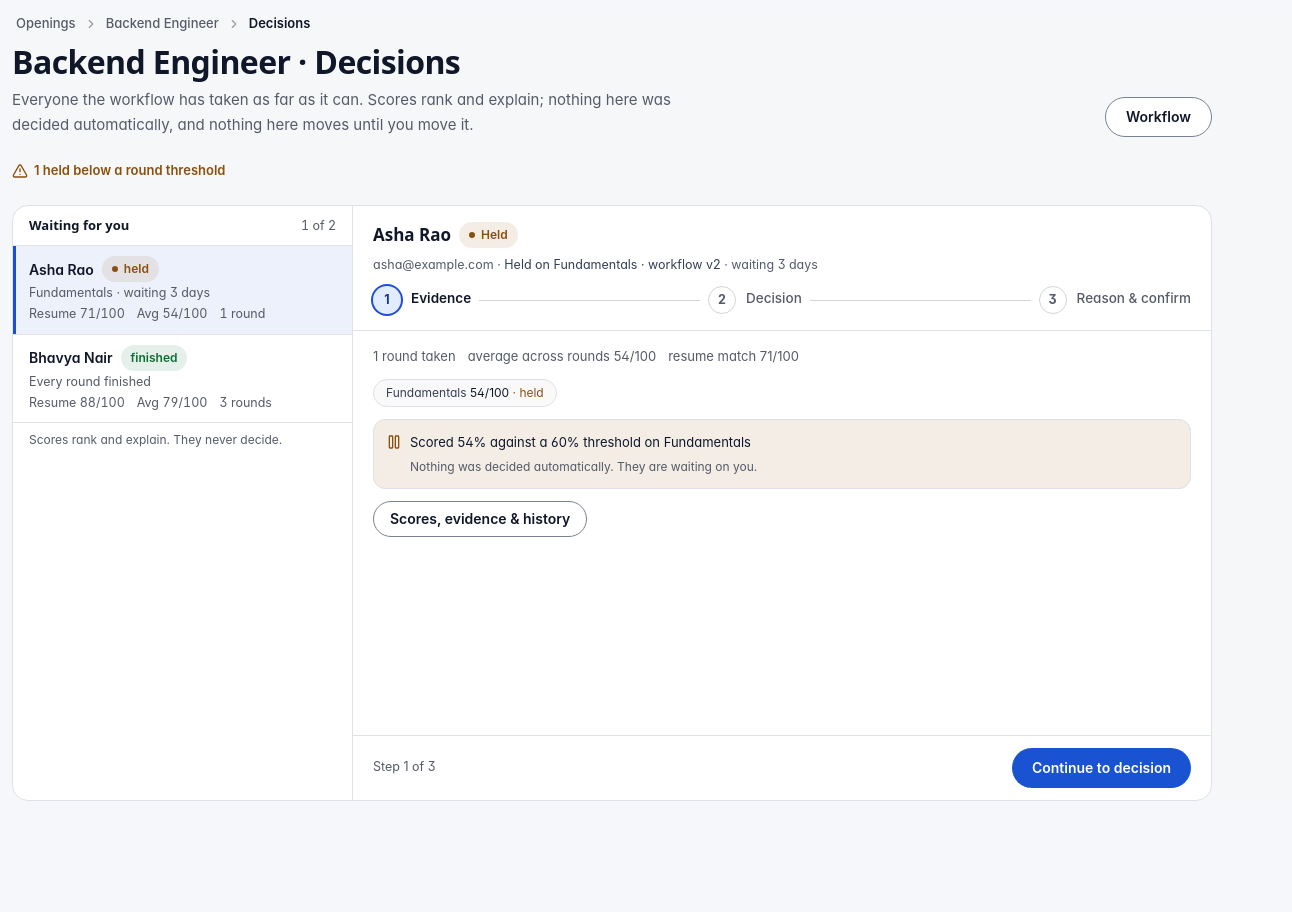
Scenario: DecisionQueue - step 1, evidence › shows human-interview scorecard progress when the candidate has any
Click the button with test id "queue-row".
click(71, 358)  # box [13,335,352,422]
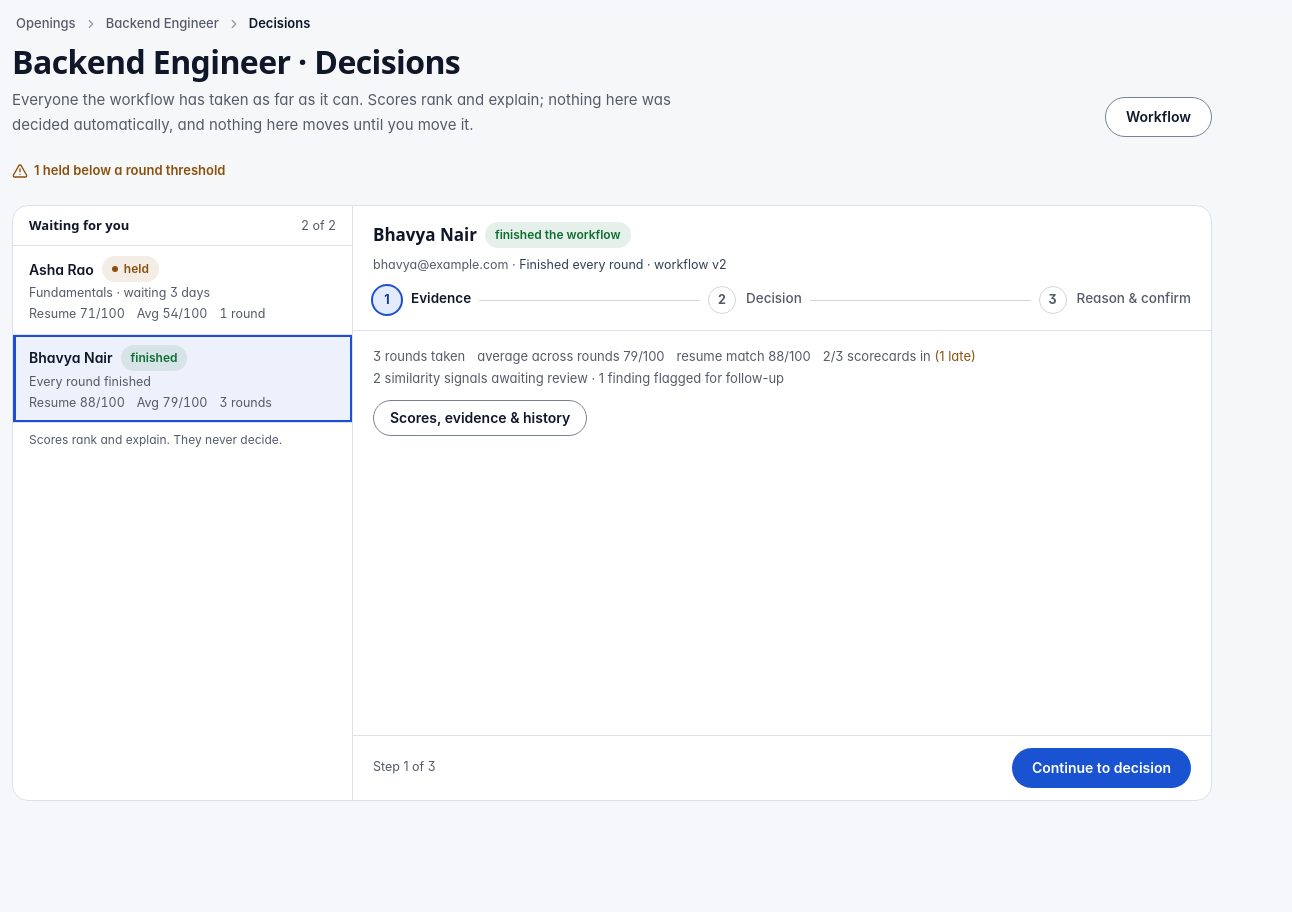
Check: the text "2/3 scorecards in (1 late)" is shown, box [823,347,976,367]
Check: the text "(1 late)" is shown, box [931,348,976,364]
Click the button with test id "queue-row".
click(182, 290)  # box [13,246,352,334]
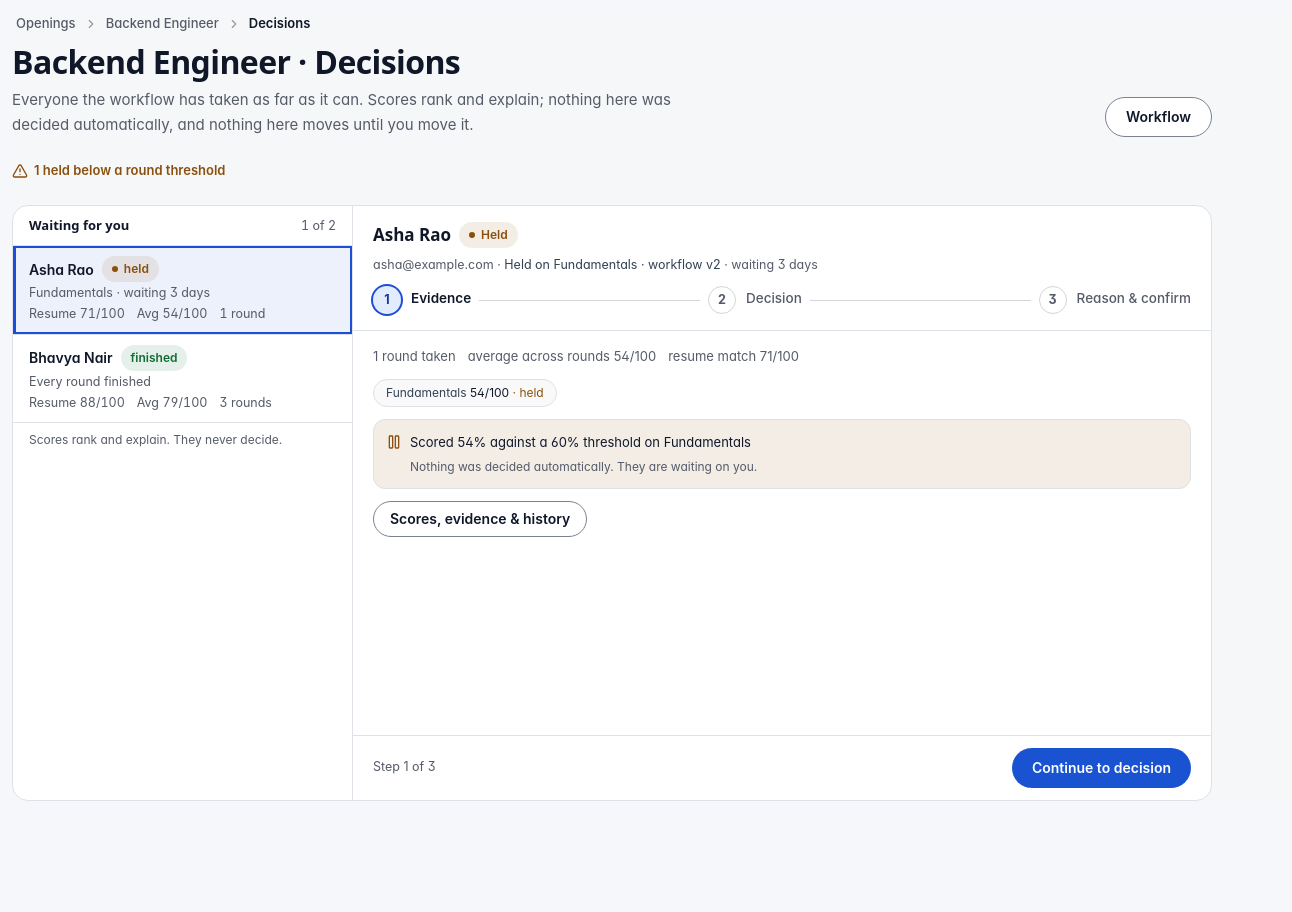
Check: the text "scorecards in" is gone
